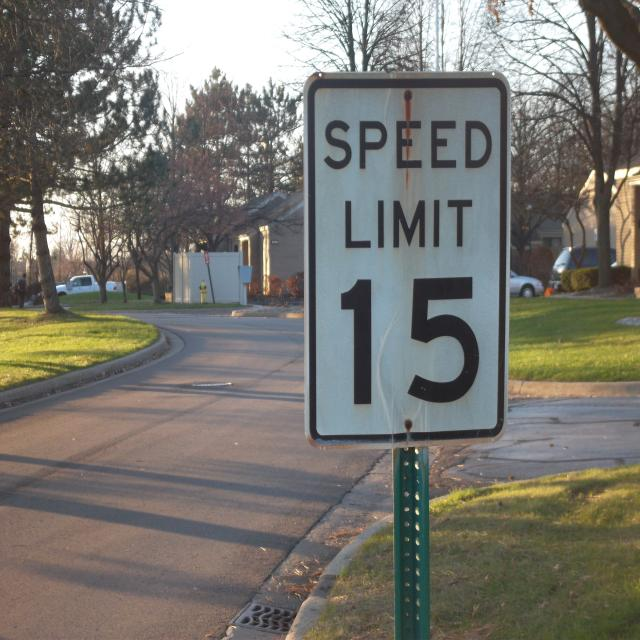regulatory: (301, 59, 516, 443)
